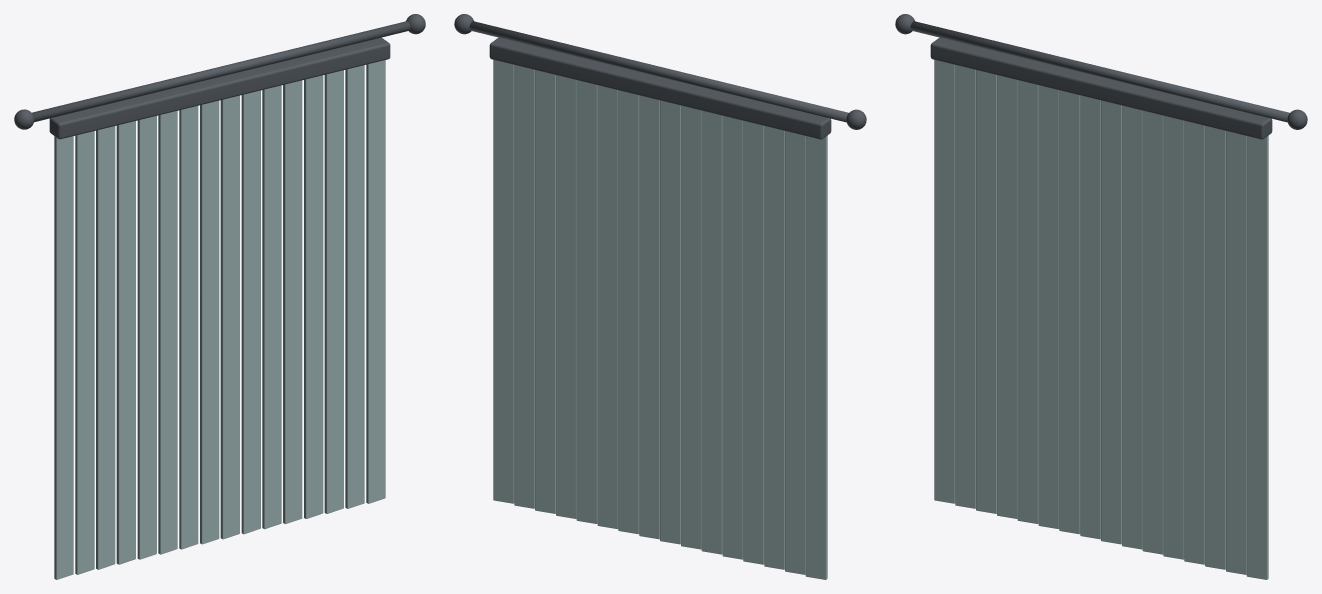
File: atelier-vertical-blinds.glb
The picture shows the model from 3 angles, left to right: view 1: azimuth 30°, elevation 25°; view 2: azimuth 150°, elevation 25°; view 3: azimuth 330°, elevation 25°; orthographic projection.
Parts seen in each view (by area): view 1: fabric.055, metal.056; view 2: fabric.055, metal.056; view 3: fabric.055, metal.056.
Part boxes in pixels (x1,y1,x2,y2): fabric.055: (54, 60, 385, 579); metal.056: (14, 14, 425, 139); fabric.055: (493, 60, 827, 579); metal.056: (454, 14, 866, 139); fabric.055: (934, 60, 1268, 579); metal.056: (895, 14, 1307, 139).
Size of the model in its own units: 2.09 by 2.32 by 0.0899.
